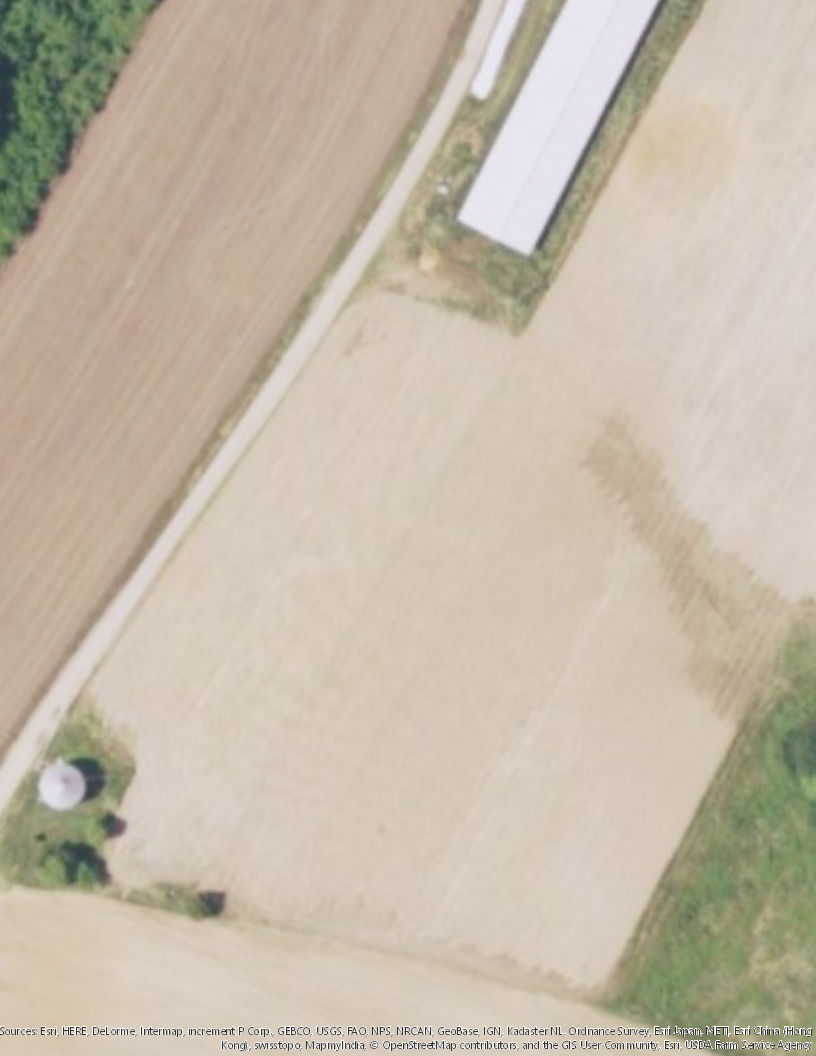cafo: (456, 1, 672, 261)
